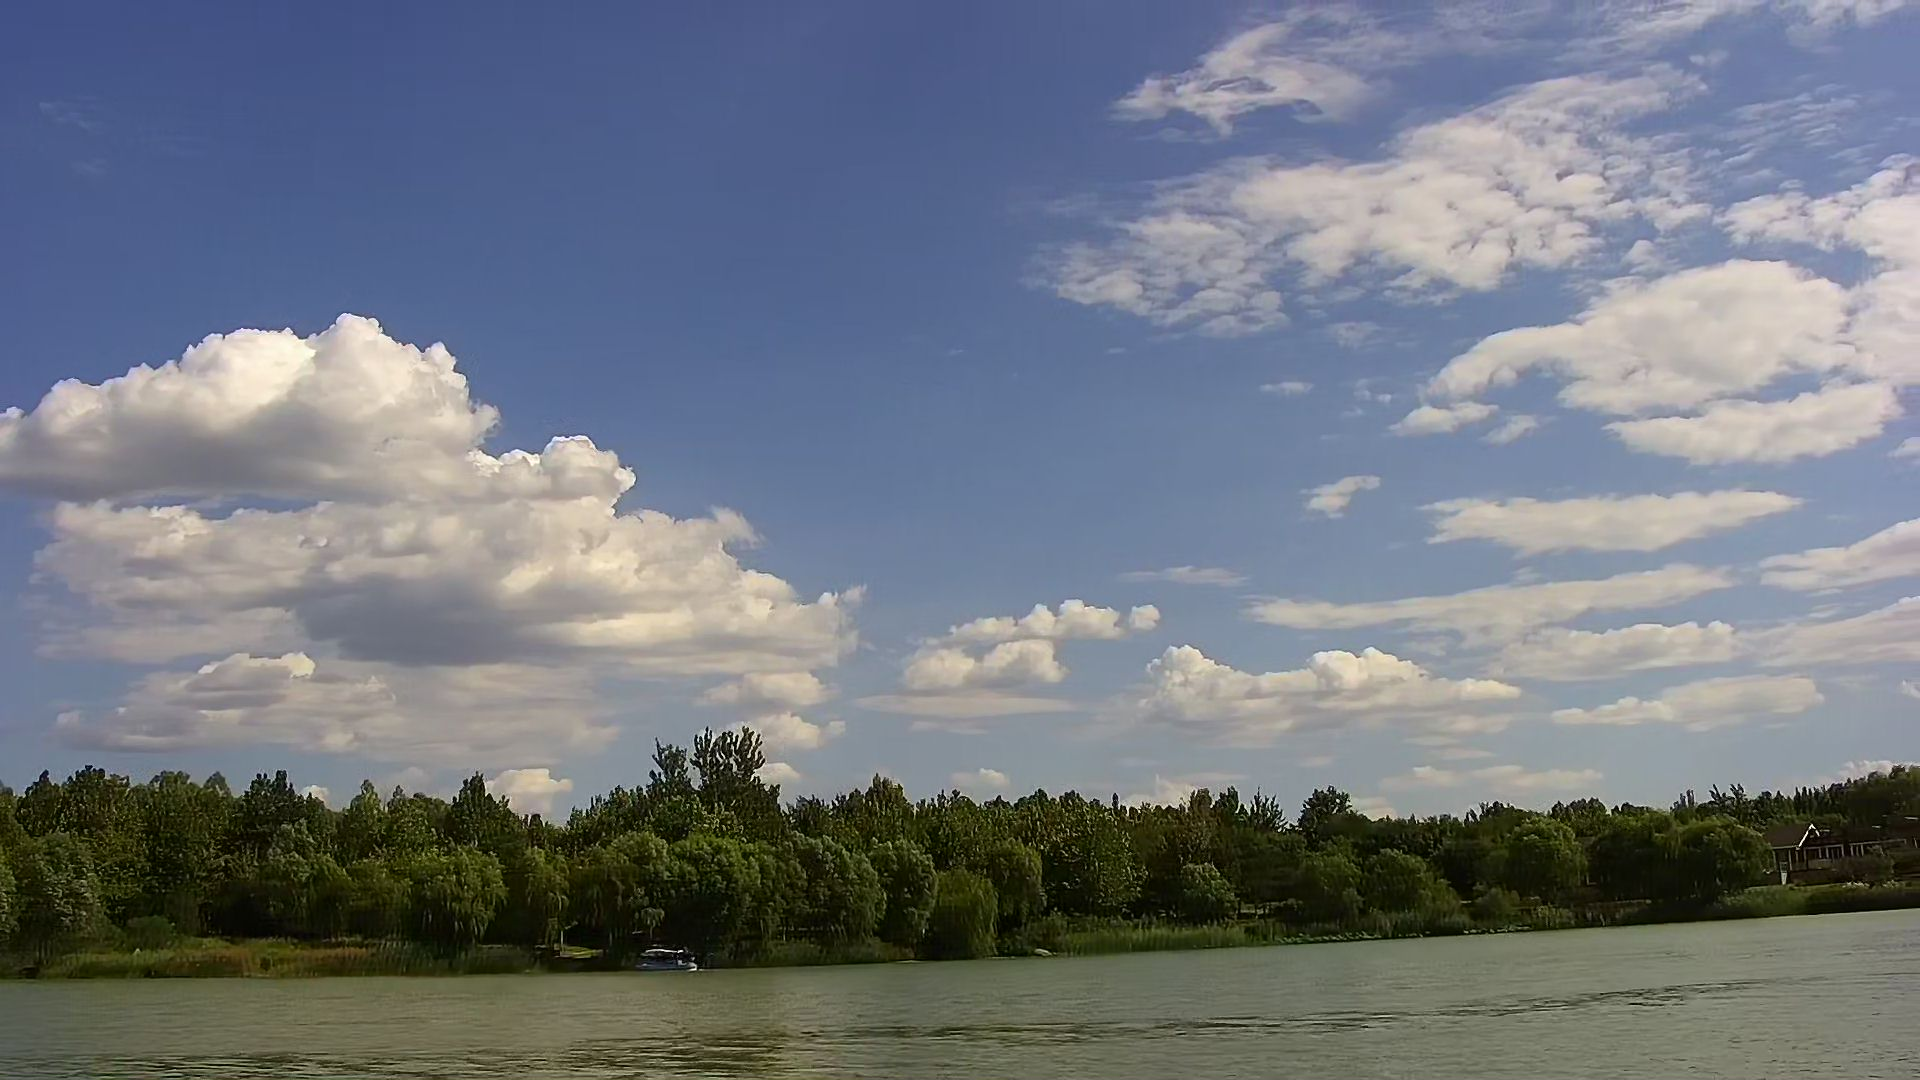boat: (640, 945, 696, 971)
